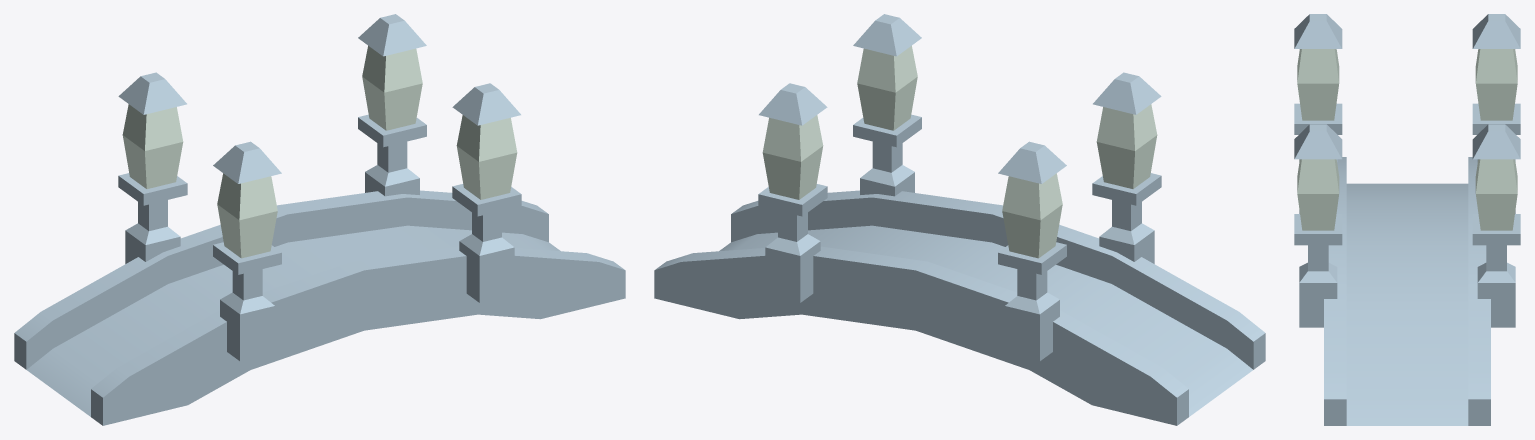
The model's file is bridge_small.fbx.
The picture shows the model from 3 angles, left to right: view 1: azimuth 30°, elevation 25°; view 2: azimuth 150°, elevation 25°; view 3: azimuth 270°, elevation 25°; orthographic projection. The views are drawn at different scales.
Visible parts, largest first — view 1: bridge_small, polySurface29; view 2: bridge_small, polySurface29; view 3: bridge_small, polySurface29.
Part boxes in pixels (box(x1,y1,x2,y2)): bridge_small: box(14, 190, 625, 425); polySurface29: box(118, 14, 521, 361); bridge_small: box(654, 190, 1265, 425); polySurface29: box(758, 14, 1161, 361); bridge_small: box(1324, 157, 1490, 425); polySurface29: box(1294, 14, 1520, 327).
Bounding box in the file's own units: 6.81 × 3.07 × 2.71.
